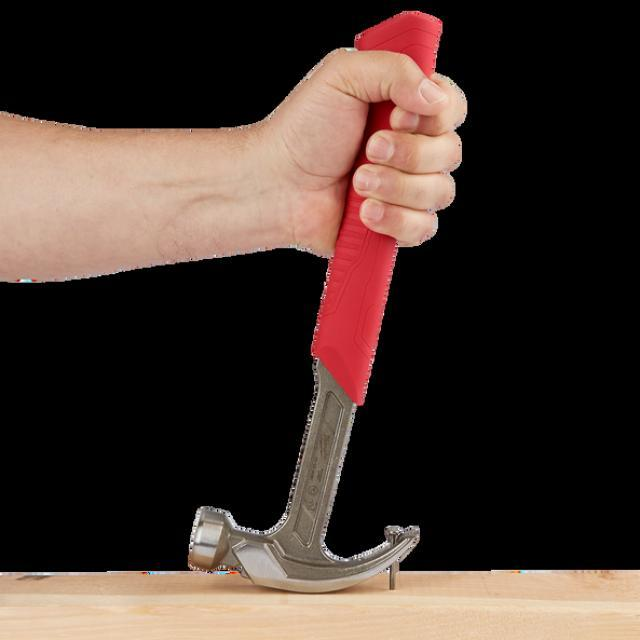hammer: (185, 11, 458, 599)
